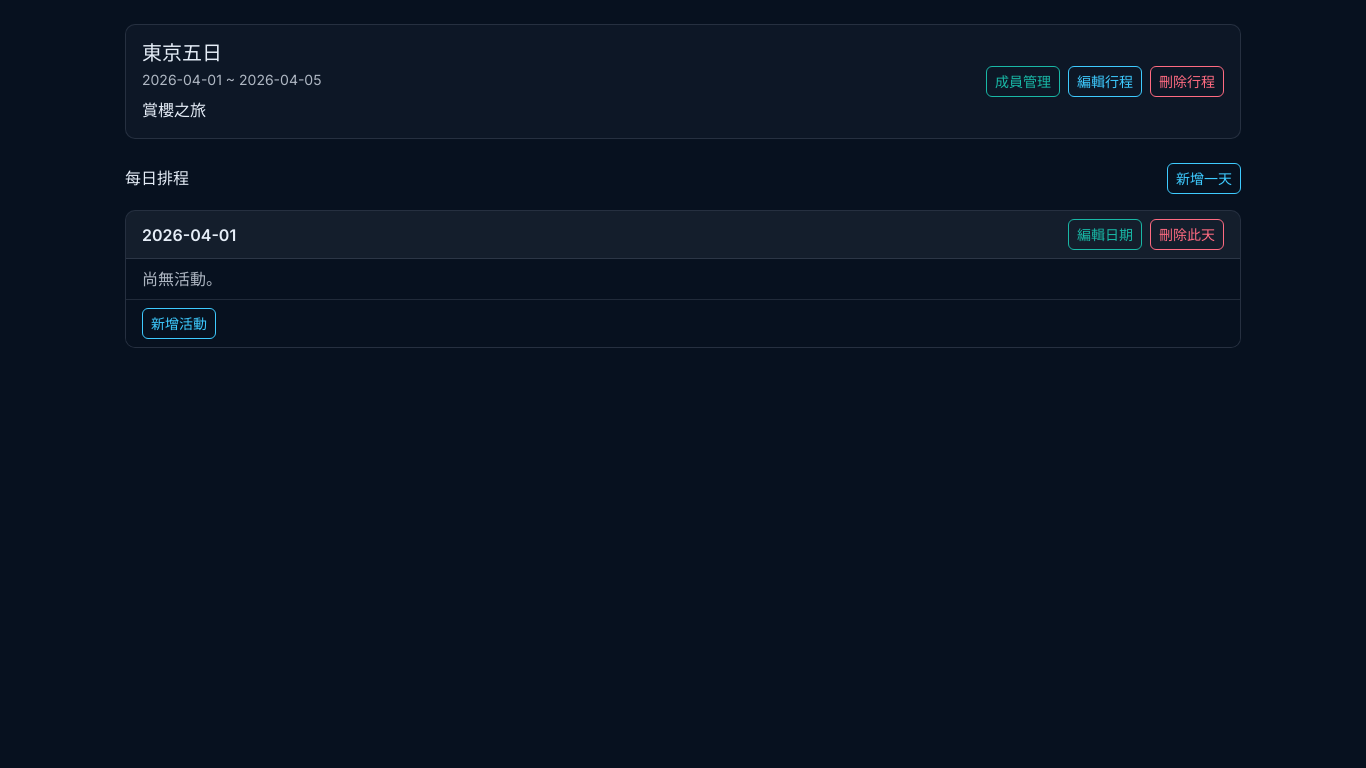
TripDetailPage › 權限拒絕的橫切處理 › 新增活動收到 403 時顯示無權限回饋
Click the button "新增活動" at (179,324), box [142,308,216,339]
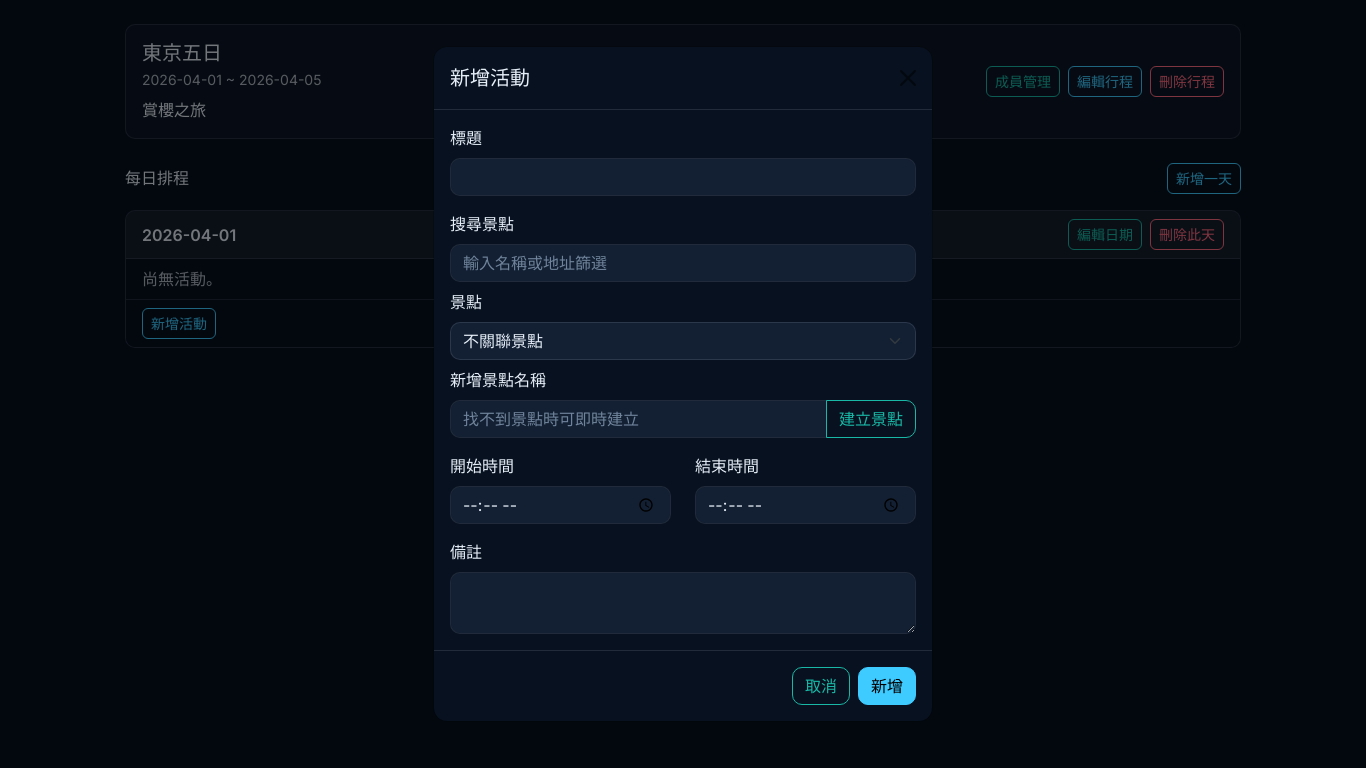
Type "晚餐" into the field labelled "標題" at (683,177), box [450,158,916,196]
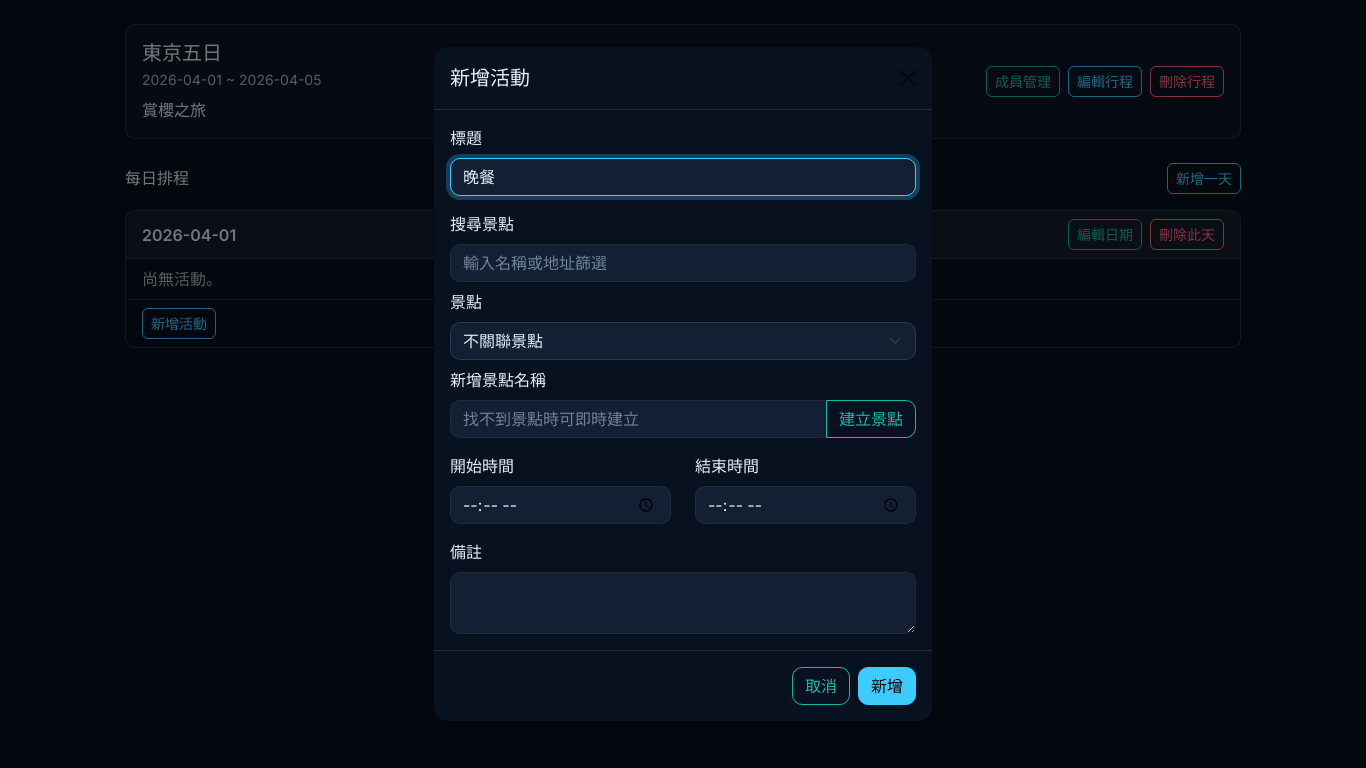
Click the button "新增" at (887,686), box [858,667,916,705]
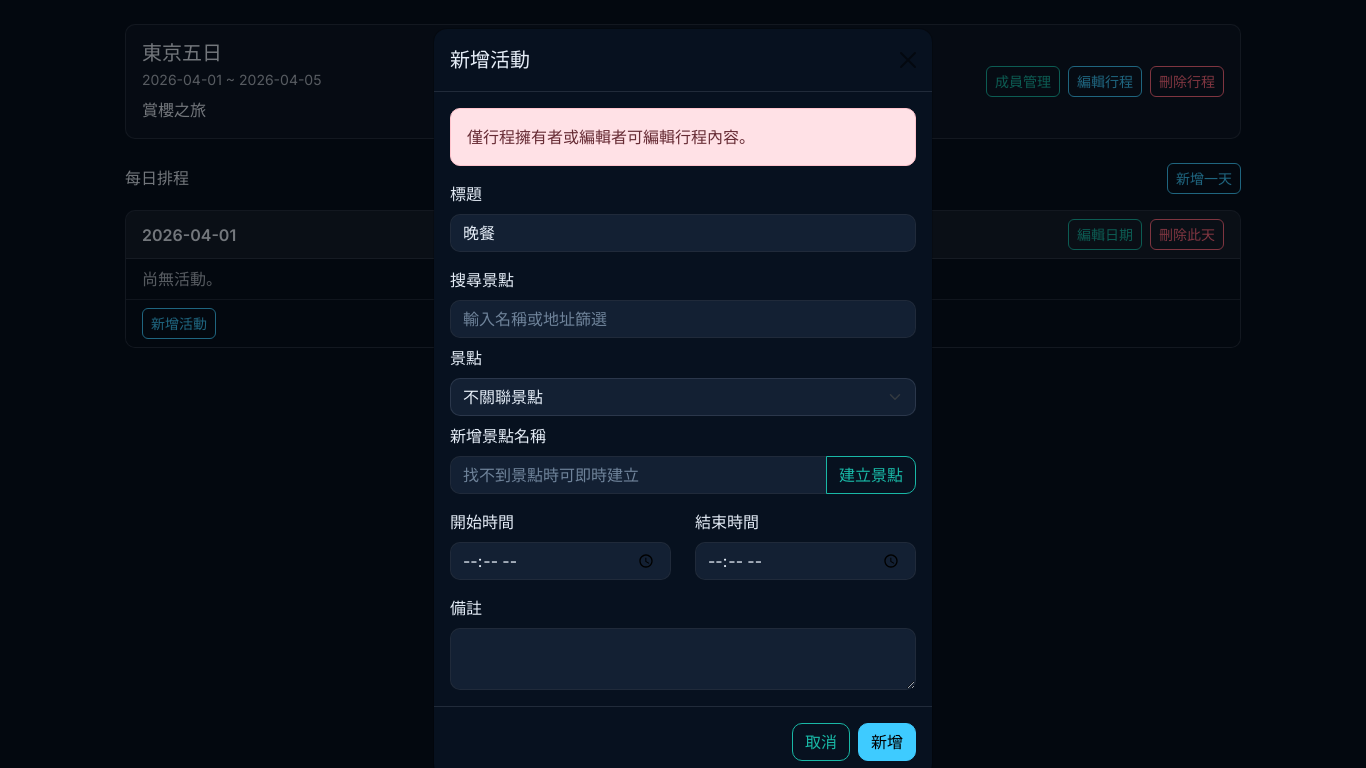
Now the text "僅行程擁有者或編輯者可編輯行程內容。" is shown, box [450,108,916,166]
